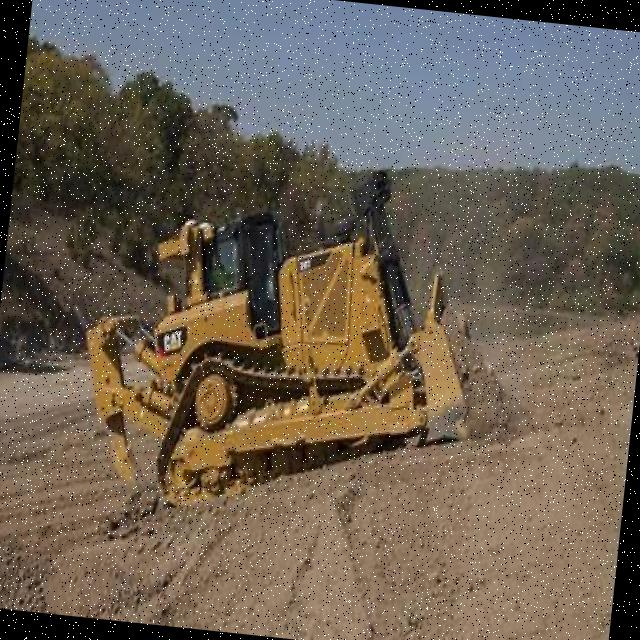Bulldozer: (46, 157, 535, 548)
